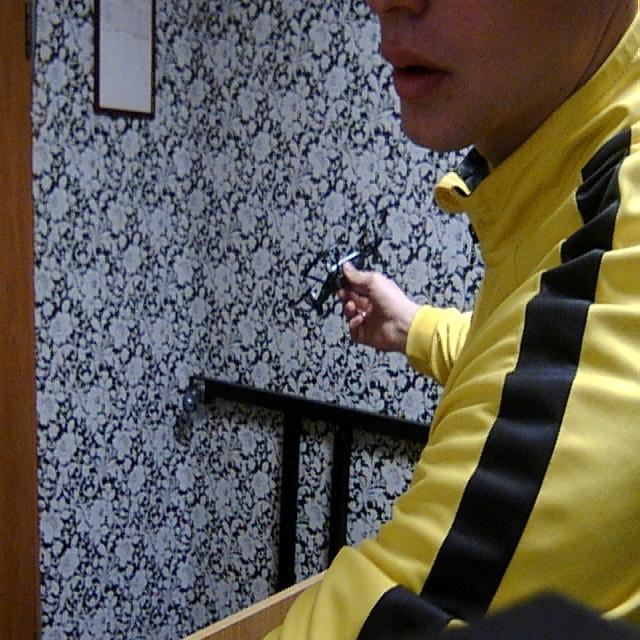drone: (291, 204, 392, 315)
